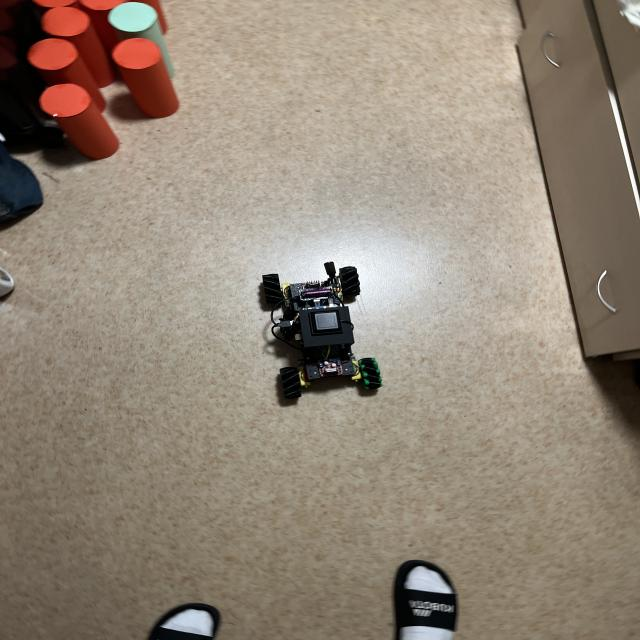robot: (263, 262, 382, 399)
